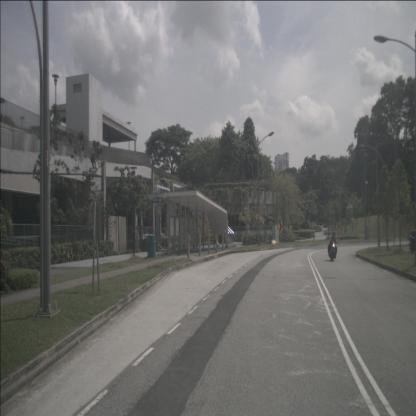vehicle-motorcycle: (328, 231, 340, 261), (409, 229, 416, 252)
